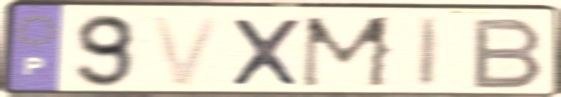9: (70, 12, 137, 92)
B: (468, 15, 548, 91)
I: (414, 16, 446, 91)
M: (296, 14, 398, 91)
V: (147, 14, 226, 89)
X: (228, 15, 304, 89)
